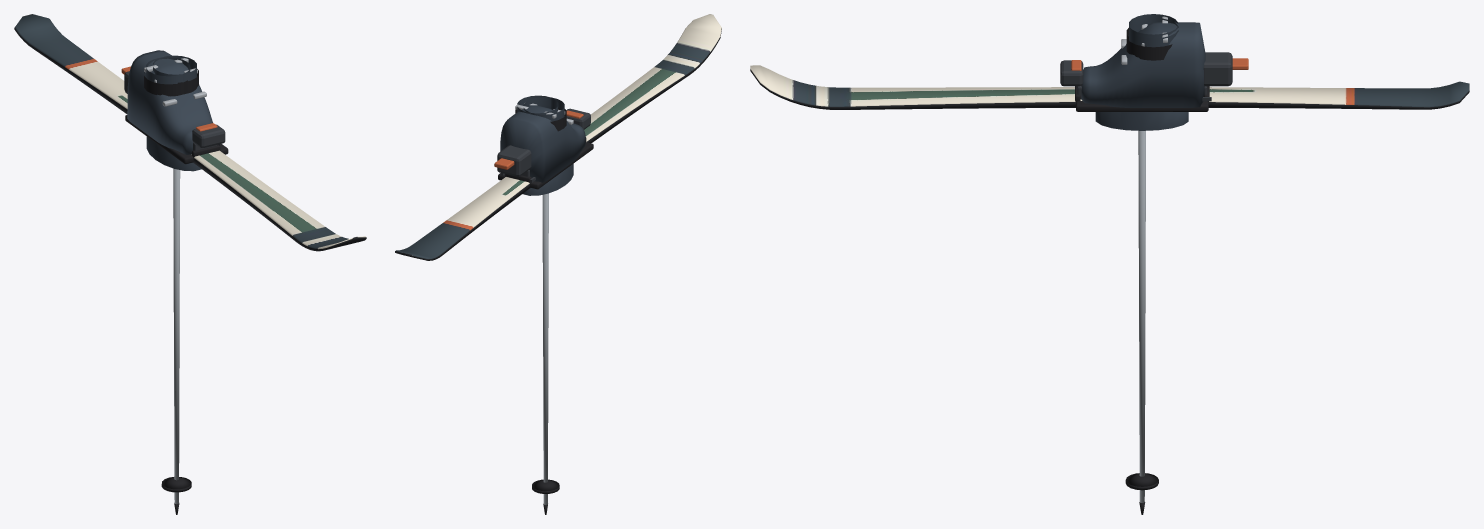
File: ski_gear.glb
3 views of the same model, side by side, from view 1: azimuth 30°, elevation 25°; view 2: azimuth 150°, elevation 25°; view 3: azimuth 270°, elevation 25° (orthographic). The views are drawn at different scales.
Visible parts, largest first — view 1: Ski_L, SkiBoot_R, Pole_L, SkiBoot_L, SkiBoot_Cuff_R, SkiBoot_Cuff_L; view 2: Ski_L, SkiBoot_R, Pole_L, SkiBoot_Cuff_R, SkiBoot_L, SkiBoot_Cuff_L, Ski_R; view 3: Ski_L, SkiBoot_R, Pole_L, SkiBoot_Cuff_L, SkiBoot_Cuff_R, SkiBoot_L.
Part boxes in pixels (x1,y1,x2,y2): Ski_L: [14, 14, 366, 251]; SkiBoot_R: [125, 50, 228, 164]; Pole_L: [161, 168, 191, 514]; SkiBoot_L: [145, 52, 227, 163]; SkiBoot_Cuff_R: [144, 57, 201, 171]; SkiBoot_Cuff_L: [147, 55, 198, 166]; Ski_L: [395, 14, 721, 260]; SkiBoot_R: [498, 105, 593, 189]; Pole_L: [532, 193, 559, 514]; SkiBoot_Cuff_R: [523, 97, 573, 195]; SkiBoot_L: [498, 103, 591, 189]; SkiBoot_Cuff_L: [515, 95, 572, 191]; Ski_R: [494, 115, 590, 176]; Ski_L: [750, 52, 1469, 109]; SkiBoot_R: [1075, 16, 1209, 111]; Pole_L: [1125, 130, 1158, 514]; SkiBoot_Cuff_L: [1120, 18, 1178, 130]; SkiBoot_Cuff_R: [1095, 14, 1188, 129]; SkiBoot_L: [1075, 23, 1209, 106].
Size of the model in its own units: 0.1345 by 1.17 by 1.56.
10 materials, 1 textured.
